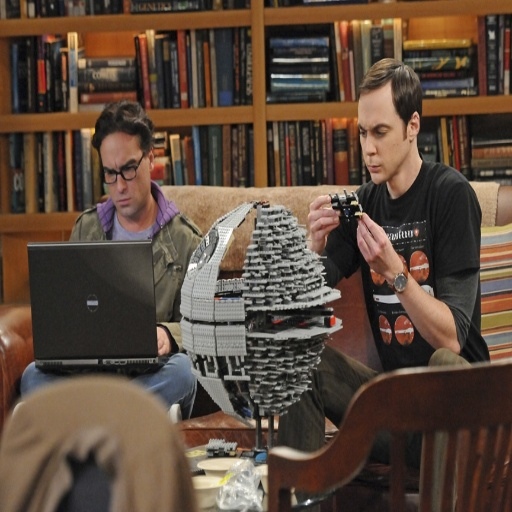hand: (354, 209, 402, 279), (299, 191, 343, 250), (155, 324, 173, 355)
